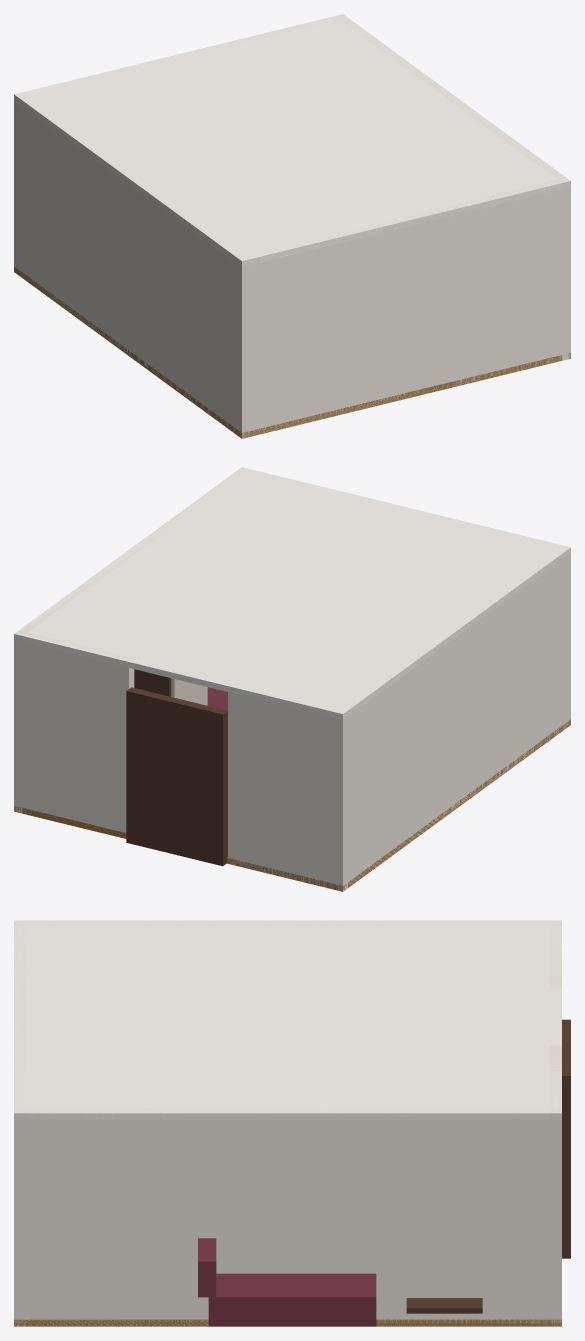
The model's file is 169-Crucero_camarote_suite.glb.
3 views of the same model, one above another, from view 1: azimuth 30°, elevation 25°; view 2: azimuth 150°, elevation 25°; view 3: azimuth 270°, elevation 25° (orthographic). The views are drawn at different scales.
Parts seen in each view (by area): view 1: SM_Cri_suite_suite_suite_suite_suite_suite_suite_suite_suit. (×5), SM_Cri_suite_Techo; view 2: SM_Cri_suite_suite_suite_suite_suite_suite_suite_suite_suit. (×7), SM_Cri_suite_Techo, SM_Cri_suite_suite_suite_suite_suite_suite_suite_suite_suite; view 3: SM_Cri_suite_suite_suite_suite_suite_suite_suite_suite_suit. (×10), SM_Cri_suite_Techo.
Boxes of the visible parts, x1,y1,x2,y2 form: SM_Cri_suite_suite_suite_suite_suite_suite_suite_suite_suit. (×5): (14, 15, 570, 438); SM_Cri_suite_Techo: (14, 14, 570, 266); SM_Cri_suite_suite_suite_suite_suite_suite_suite_suite_suit. (×7): (14, 468, 570, 891); SM_Cri_suite_Techo: (14, 467, 570, 719); SM_Cri_suite_suite_suite_suite_suite_suite_suite_suite_suite: (171, 678, 207, 705); SM_Cri_suite_suite_suite_suite_suite_suite_suite_suite_suit. (×10): (14, 920, 570, 1326); SM_Cri_suite_Techo: (14, 920, 561, 1120).
Size of the model in its own units: 5.22 by 2.4 by 5.67.
